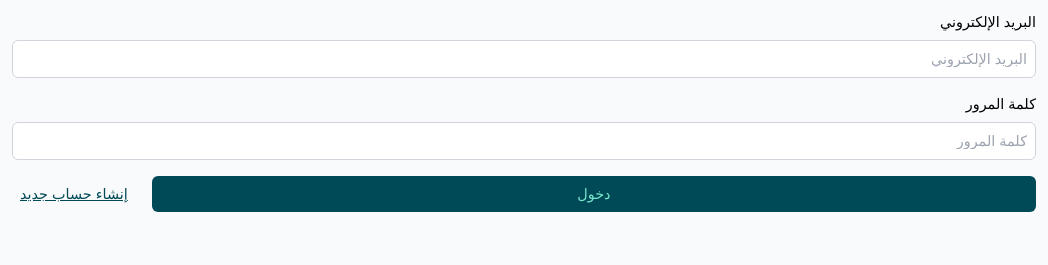
Test case: LoginForm › handles login failure
Type "test@example.com" into the field with placeholder "البريد الإلكتروني". click: (524, 59)
box: [12,40,1036,78]
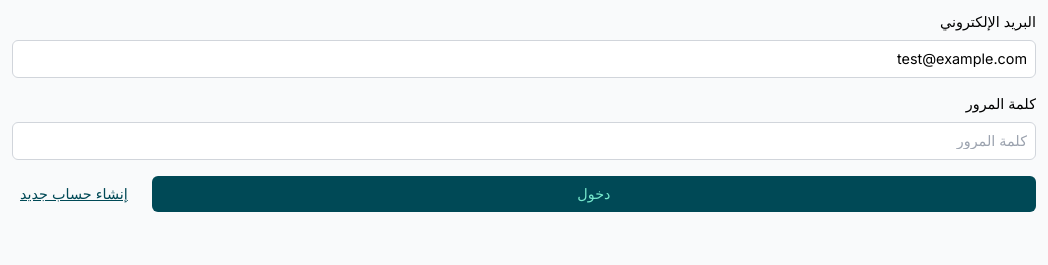
Type "wrongpassword" into the password field with placeholder "كلمة المرور". click: (524, 141)
box: [12,122,1036,160]
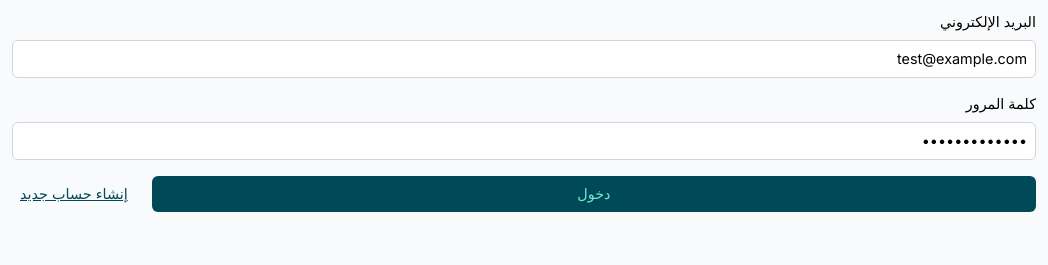
Click the button "دخول". click: (594, 194)
box: [152,176,1036,212]
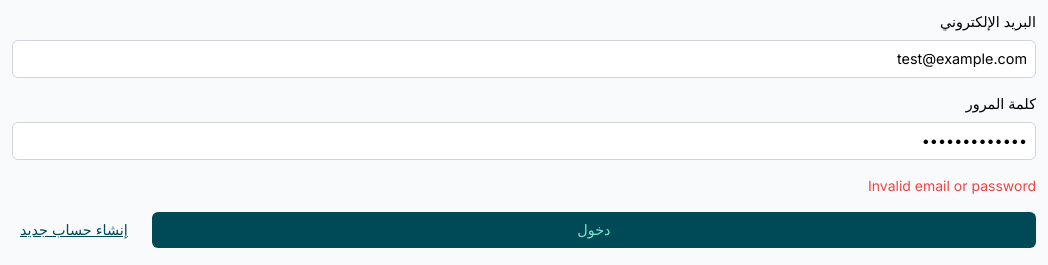
Check: the text "Invalid email or password" is shown, box [868,177,1036,194]
